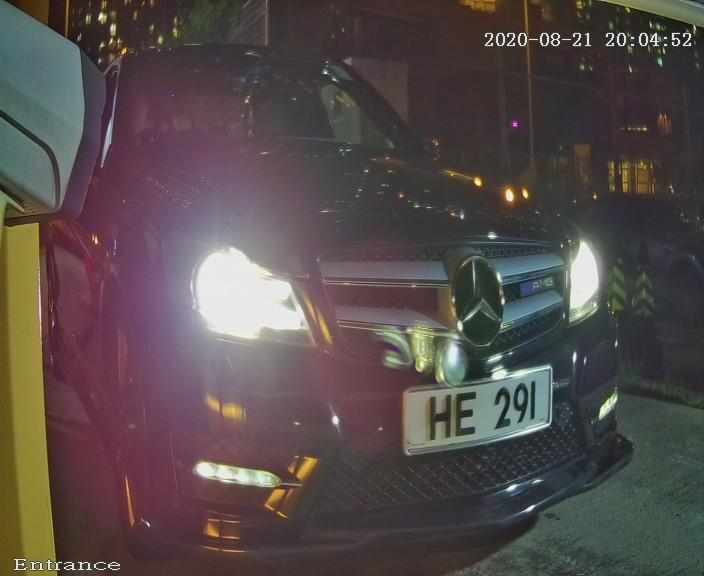Car: (26, 6, 679, 569)
License Plate: (377, 345, 563, 485)
